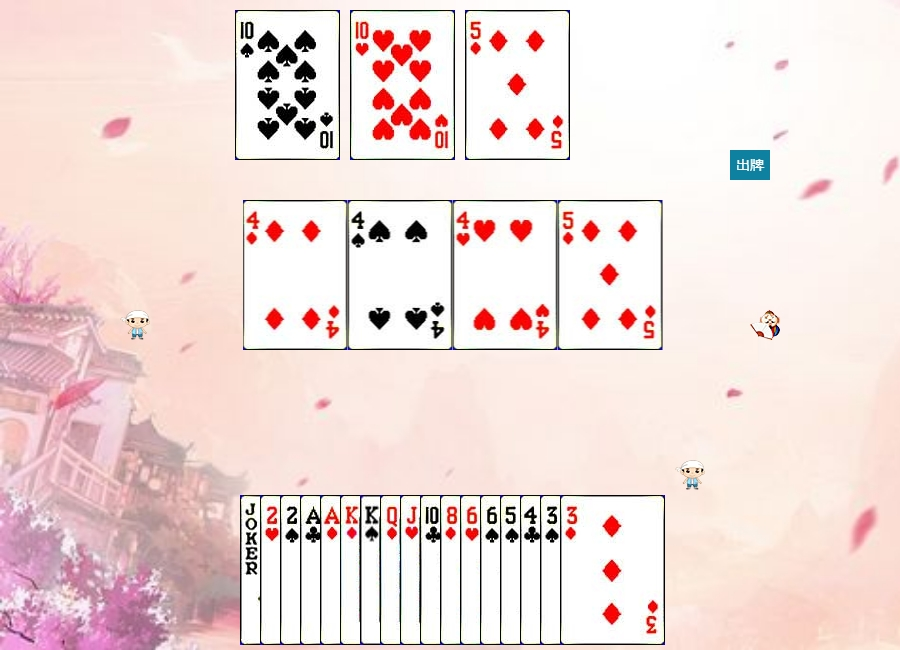10~2: (420, 495, 525, 645)
10~3: (350, 10, 455, 160)
10~4: (235, 10, 340, 160)
11~3: (400, 495, 505, 645)
12~1: (380, 495, 485, 645)
13~1: (340, 495, 445, 645)
13~4: (360, 495, 465, 645)
14~1: (320, 495, 425, 645)
14~2: (300, 495, 405, 645)
15~3: (260, 495, 365, 645)
15~4: (280, 495, 385, 645)
17~3: (240, 495, 345, 645)
3~1: (560, 495, 665, 645)
3~4: (540, 495, 645, 645)
4~1: (243, 200, 348, 350)
4~2: (520, 495, 625, 645)
4~3: (453, 200, 558, 350)
4~4: (348, 200, 453, 350)
5~1: (465, 10, 570, 160), (558, 200, 663, 350)
5~4: (500, 495, 605, 645)
6~3: (460, 495, 565, 645)
6~4: (480, 495, 585, 645)
8~1: (440, 495, 545, 645)
